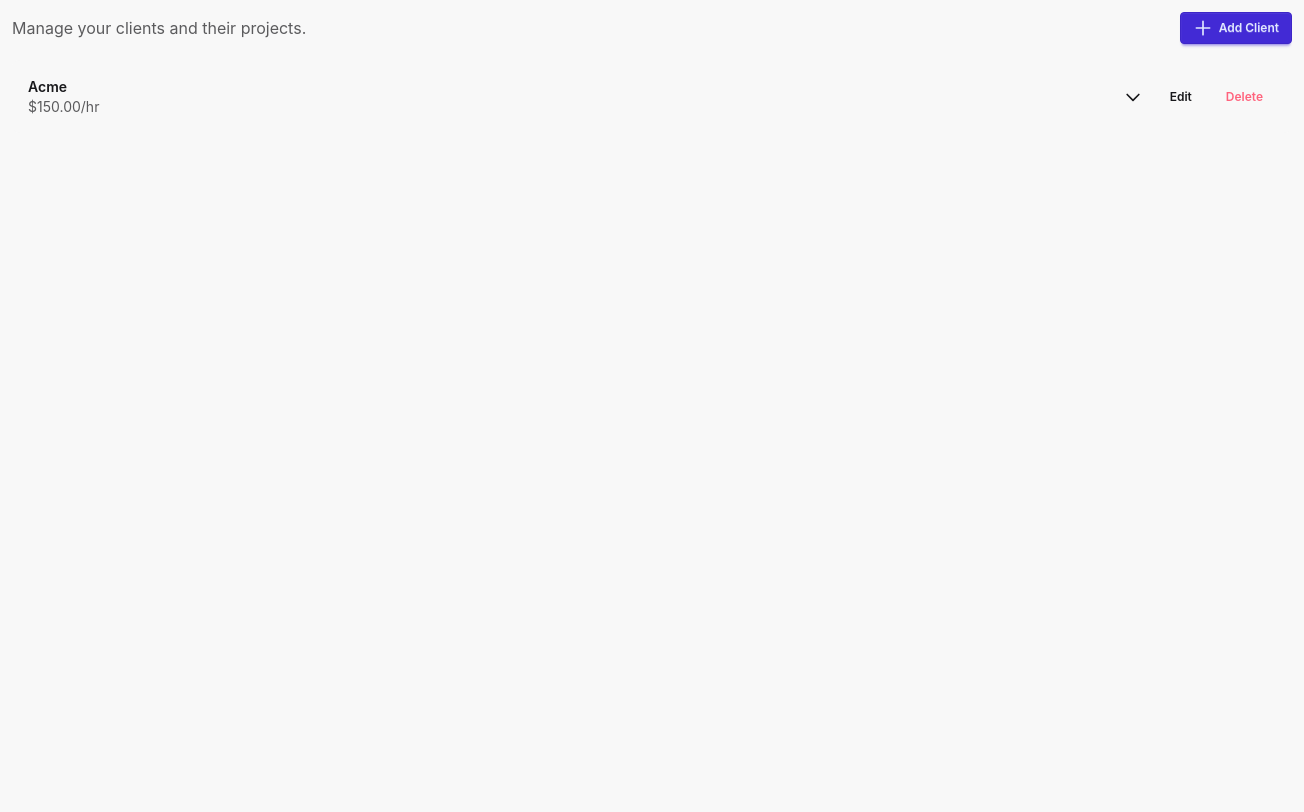
Test: ClientSettings - edit & delete › opens edit form with client values
Click the button "Edit" at point(1181, 96), box [1157,80,1205,112]
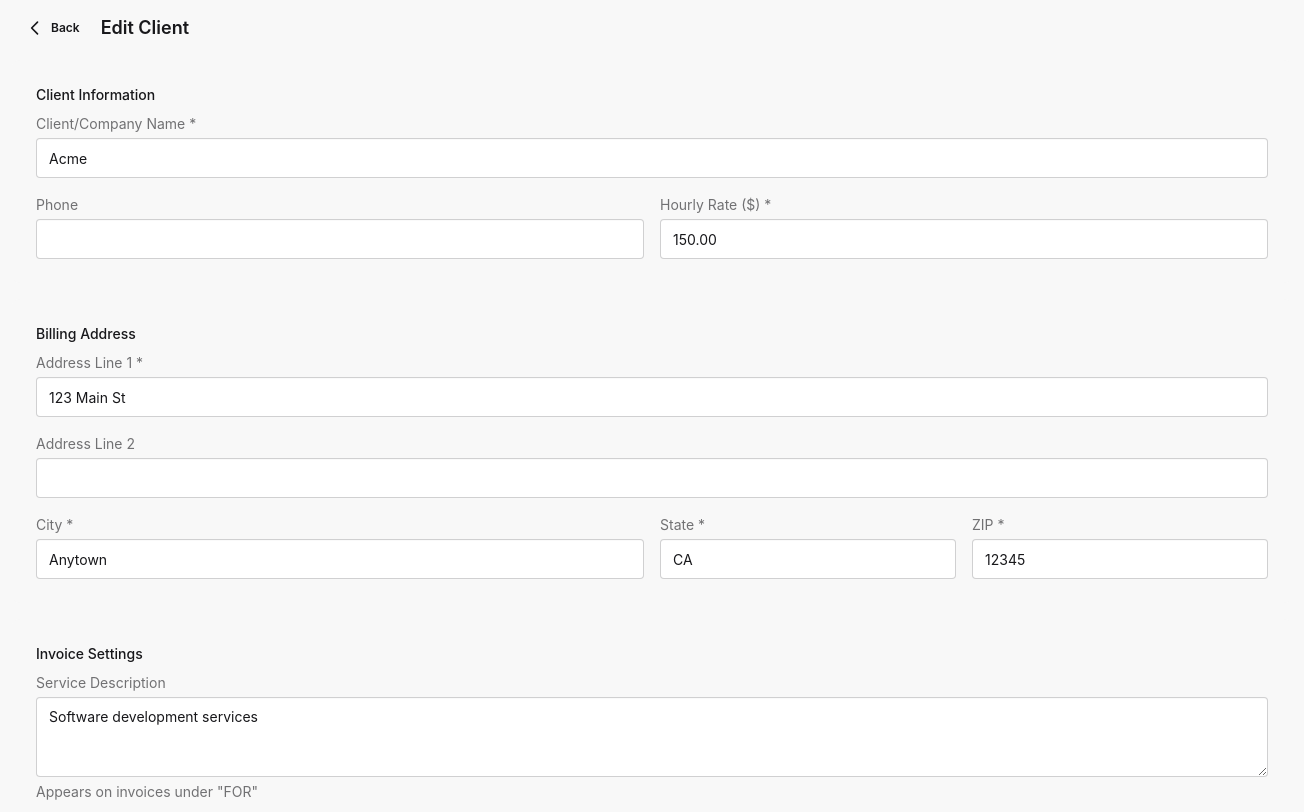
Check: the heading "Edit Client" is shown, box [101,14,189,42]
Check: the field showing "Acme" below "Client/Company Name *" is shown, box [36,138,1268,178]
